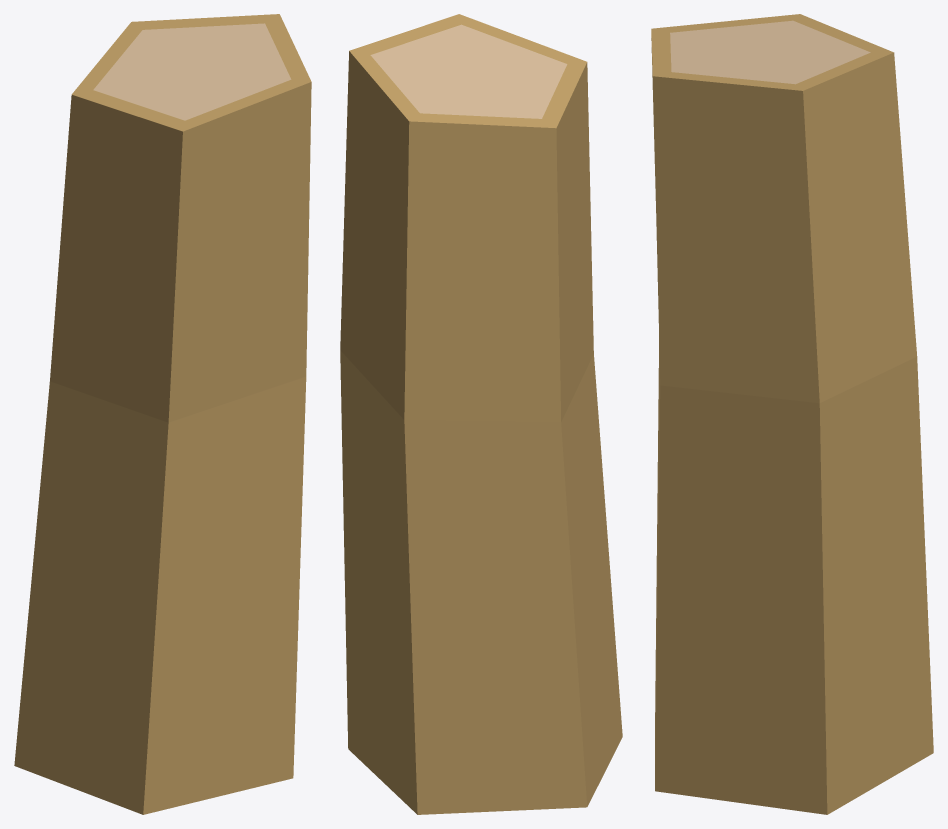
File: Simple_Stump_01_LOD.fbx
3 renders of one model, left to right at view 1: azimuth 30°, elevation 25°; view 2: azimuth 150°, elevation 25°; view 3: azimuth 270°, elevation 25°, orthographic. The views are drawn at different scales.
Visible parts, largest first — view 1: Simple_Stump_01_LOD0; view 2: Simple_Stump_01_LOD0; view 3: Simple_Stump_01_LOD0.
Part boxes in pixels (x1,y1,x2,y2): Simple_Stump_01_LOD0: (14, 14, 311, 814); Simple_Stump_01_LOD0: (340, 14, 622, 814); Simple_Stump_01_LOD0: (651, 14, 933, 814).
Size of what is drawn, in the model's own units: 59.82 by 157 by 55.05.
